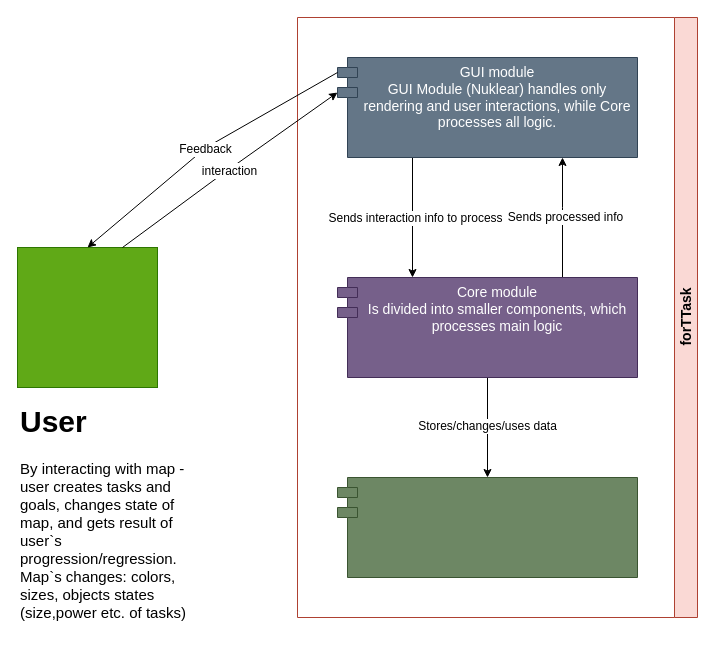
The diagram is 715 pixels wide and 658 high, and some of its shapes have lost their labels. Here are the shapes that lost their labels. From the top down, the centre of each, then its label:
the point at 87,317: User Creates, changes, gets
the point at 487,527: Persistence Layer Defines how data is stored, downloaded, used etc.
